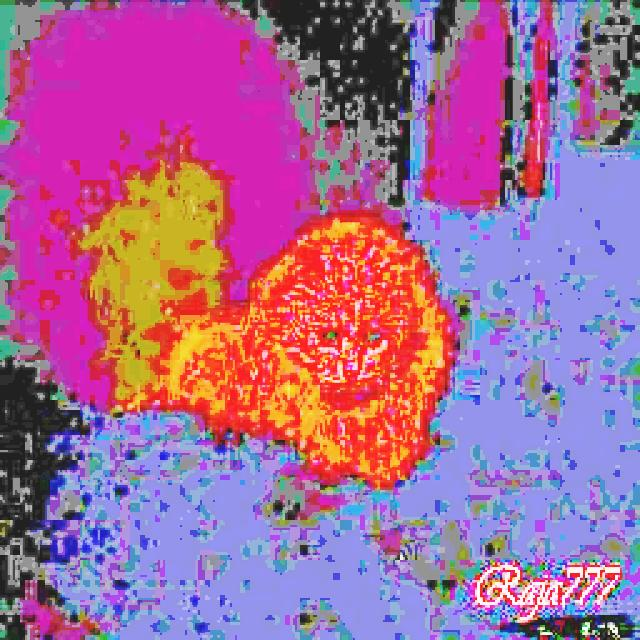cat: (198, 226, 452, 486)
